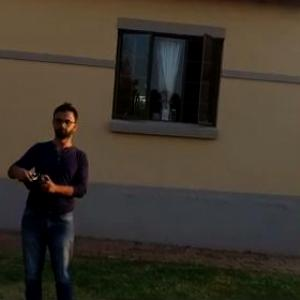follow: (6, 94, 96, 299)
